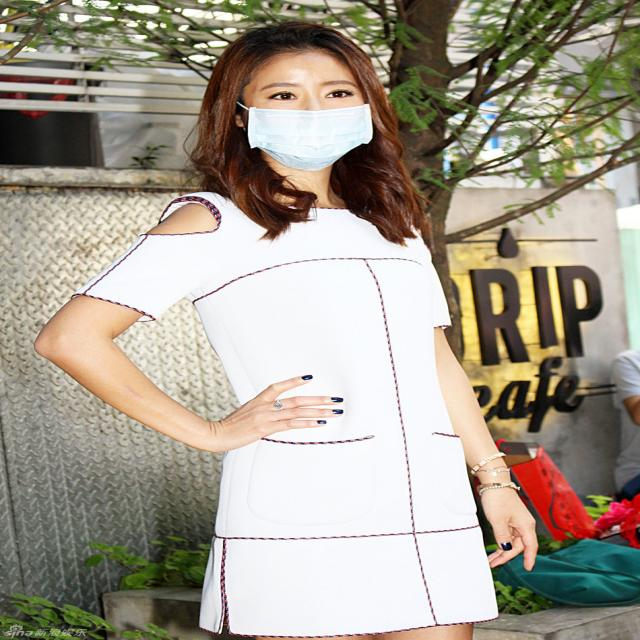mask: (244, 51, 366, 168)
